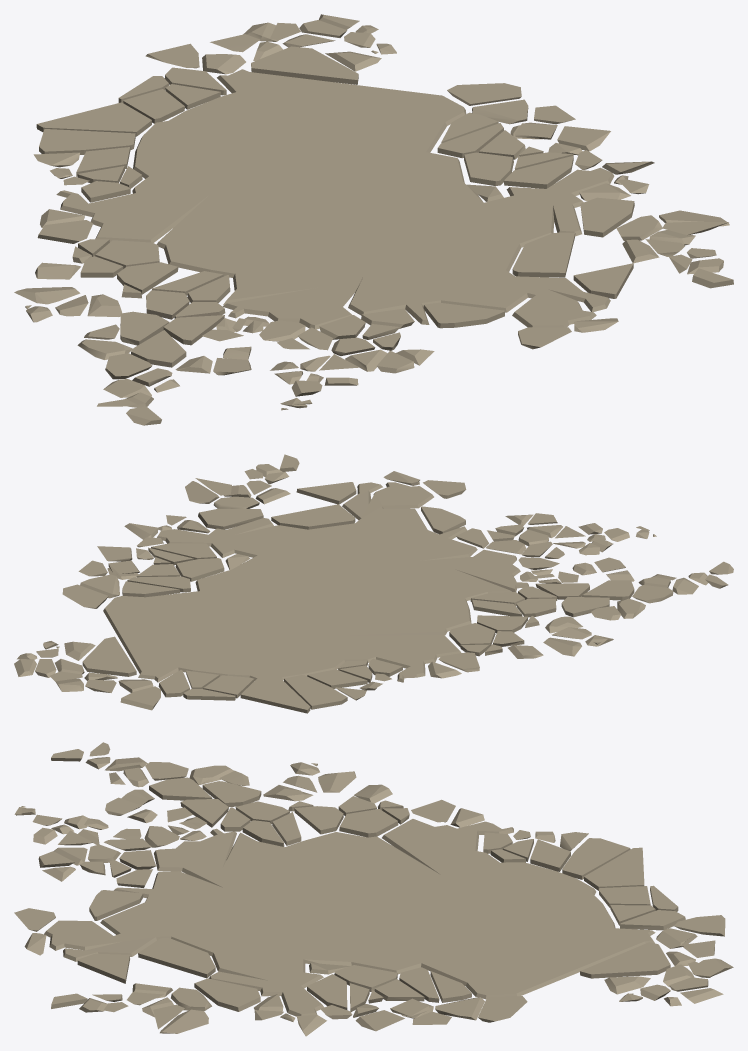
The model's file is concrete.obj.
3 views of the same model, one above another, from view 1: azimuth 30°, elevation 25°; view 2: azimuth 150°, elevation 25°; view 3: azimuth 270°, elevation 25° (orthographic). The views are drawn at different scales.
Visible parts, largest first — view 1: Concrete; view 2: Concrete; view 3: Concrete.
Boxes of the visible parts, x1,y1,x2,y2 form: Concrete: [14, 14, 733, 425]; Concrete: [14, 454, 733, 713]; Concrete: [14, 742, 733, 1036].
Bounding box in the file's own units: 6.08 × 0.0419 × 6.36.
